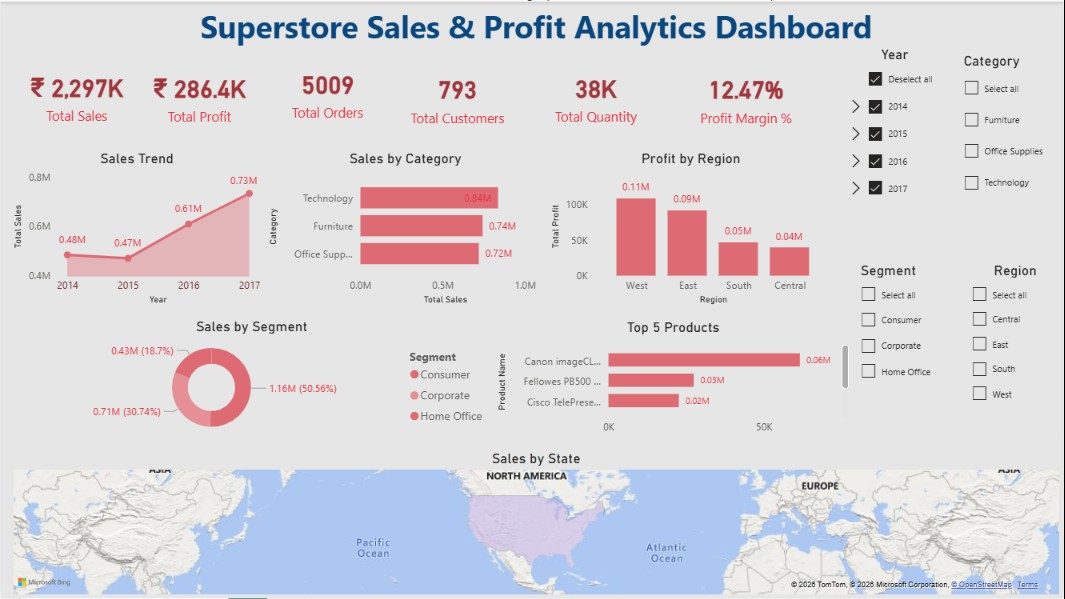

The dashboard page shown, as its layout file describes it:
{"tool":"powerbi","page":{"name":"Executive Overview Dashboard","canvas":[1280,720],"ordinal":0},"visuals":[{"type":"textbox","box":[9.3,0,1270.7,63.1],"z":0},{"type":"card","fields":{"Values":["Superstore.Total Sales"]},"box":[23.3,57.6,135.8,111.1],"z":1000},{"type":"card","fields":{"Values":["Superstore.Total Profit"]},"box":[162.9,61.5,152,106.2],"z":2000},{"type":"card","fields":{"Values":["Superstore.Total Orders"]},"box":[314.9,57.9,156.8,103.8],"z":3000},{"type":"card","fields":{"Values":["Superstore.Total Customers"]},"box":[471.7,63.9,156.8,103.8],"z":4000},{"type":"card","fields":{"Values":["Superstore.Total Quantity"]},"box":[639.4,62.7,155.6,103.8],"z":5000},{"type":"card","fields":{"Values":["Superstore.Profit Margin %"]},"box":[810.7,62.7,174.9,106.2],"z":6000},{"type":"lineChart","title":"Sales Trend","fields":{"Category":["Superstore.Order Date.Variation.Date Hierarchy.Year","Superstore.Order Date.Variation.Date Hierarchy.Quarter","Superstore.Order Date.Variation.Date Hierarchy.Month","Superstore.Order Date.Variation.Date Hierarchy.Day"],"Y":["Superstore.Total Sales"]},"box":[9.6,178.4,307.4,192.1],"z":7000},{"type":"clusteredBarChart","title":"Sales by Category","fields":{"Category":["Superstore.Category"],"Y":["Superstore.Total Sales"]},"box":[317,178.4,340.3,192.1],"z":8000},{"type":"clusteredColumnChart","title":"Profit by Region","fields":{"Y":["Superstore.Total Profit"],"Category":["Superstore.Region"]},"box":[657.3,178.4,348.5,192.1],"z":9000},{"type":"donutChart","title":"Sales by Segment","fields":{"Category":["Superstore.Segment"],"Y":["Superstore.Total Sales"]},"box":[9.6,381.5,584.6,149.6],"z":10000},{"type":"clusteredBarChart","title":"Top 5 Products","fields":{"Category":["Superstore.Product Name"],"Y":["Superstore.Total Sales"]},"box":[594.2,382.8,433.6,149.6],"z":11000},{"type":"filledMap","title":"Sales by State","fields":{"Category":["Superstore.State"]},"box":[9.6,540.7,1270.7,179.8],"z":12000},{"type":"listSlicer","fields":{"Values":["Superstore.Region"]},"box":[1165,314.2,115.3,211.3],"z":13000},{"type":"listSlicer","fields":{"Values":["Superstore.Category"]},"box":[1155.4,61.7,113.9,219.6],"z":14000},{"type":"listSlicer","fields":{"Values":["Superstore.Segment"]},"box":[1031.9,314.2,123.5,216.8],"z":15000},{"type":"listSlicer","fields":{"Values":["Superstore.Order Date.Variation.Date Hierarchy.Year","Superstore.Order Date.Variation.Date Hierarchy.Quarter","Superstore.Order Date.Variation.Date Hierarchy.Month","Superstore.Order Date.Variation.Date Hierarchy.Day"]},"box":[1015.4,53.5,123.5,226.4],"z":16000}]}

Visuals, with their boxes in screenshot pixels (x1, y1, x2, y2), scaled from the page's 1280x720 canvas onto the 1065x599 screenshot:
textbox: BBox(8, 0, 1064, 52)
card - Superstore.Total Sales: BBox(19, 48, 132, 140)
card - Superstore.Total Profit: BBox(136, 51, 262, 140)
card - Superstore.Total Orders: BBox(262, 48, 392, 135)
card - Superstore.Total Customers: BBox(392, 53, 523, 140)
card - Superstore.Total Quantity: BBox(532, 52, 661, 139)
card - Superstore.Profit Margin %: BBox(675, 52, 820, 141)
"Sales Trend" lineChart: BBox(8, 148, 264, 308)
"Sales by Category" clusteredBarChart: BBox(264, 148, 547, 308)
"Profit by Region" clusteredColumnChart: BBox(547, 148, 837, 308)
"Sales by Segment" donutChart: BBox(8, 317, 494, 442)
"Top 5 Products" clusteredBarChart: BBox(494, 318, 855, 443)
"Sales by State" filledMap: BBox(8, 450, 1064, 598)
listSlicer - Superstore.Region: BBox(969, 261, 1064, 437)
listSlicer - Superstore.Category: BBox(961, 51, 1056, 234)
listSlicer - Superstore.Segment: BBox(859, 261, 961, 442)
listSlicer - Superstore.Order Date.Variation.Date Hierarchy.Year x Superstore.Order Date.Variation.Date Hierarchy.Quarter: BBox(845, 45, 948, 233)
